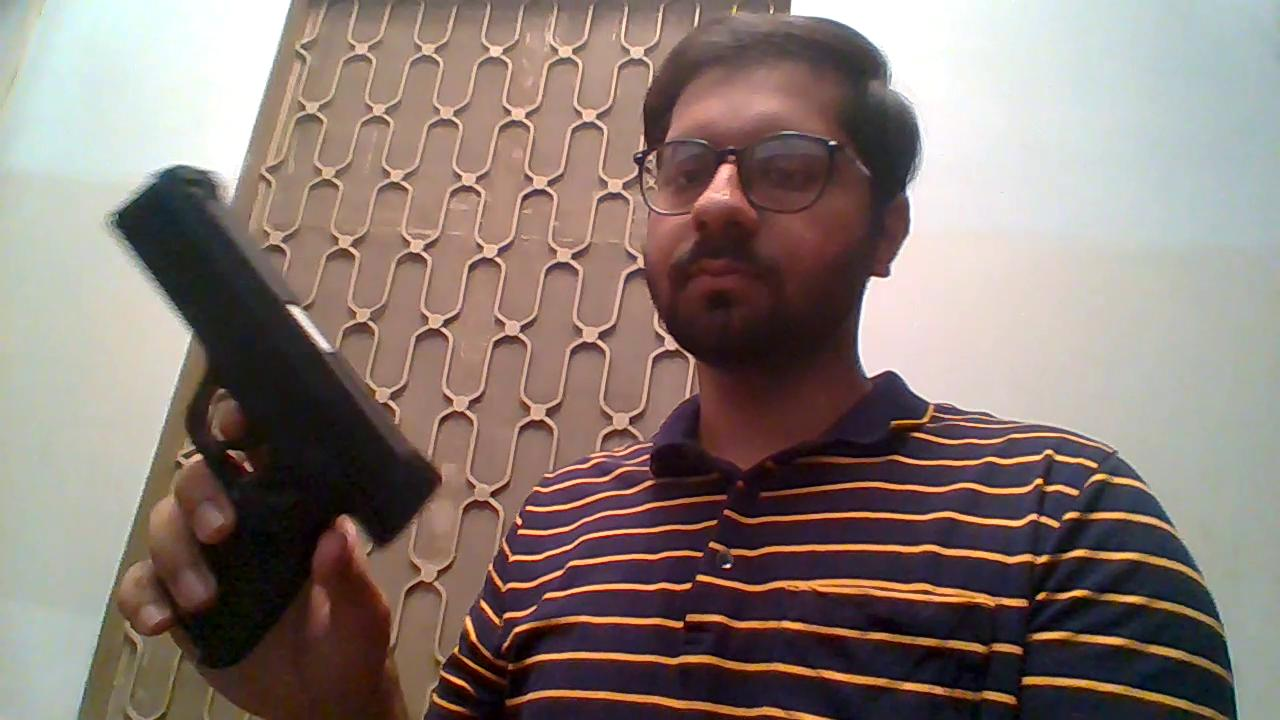criminal: (106, 13, 1239, 720)
weapon: (110, 161, 441, 661)
